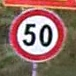limite 50: (9, 8, 65, 63)
